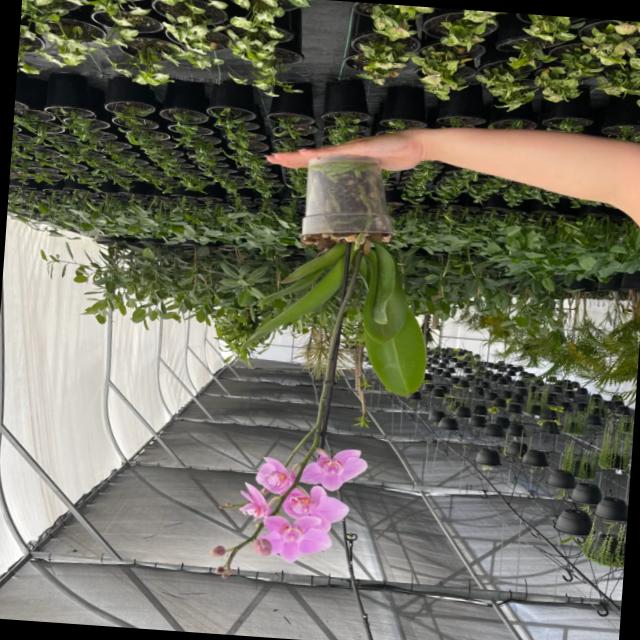flower: (263, 483, 347, 562), (301, 447, 367, 492), (239, 483, 276, 524)
leaf: (361, 246, 426, 397), (263, 257, 344, 330), (261, 262, 336, 305), (283, 245, 345, 282), (372, 245, 396, 325)
plant: (194, 136, 450, 593)
pot: (290, 150, 416, 260)
